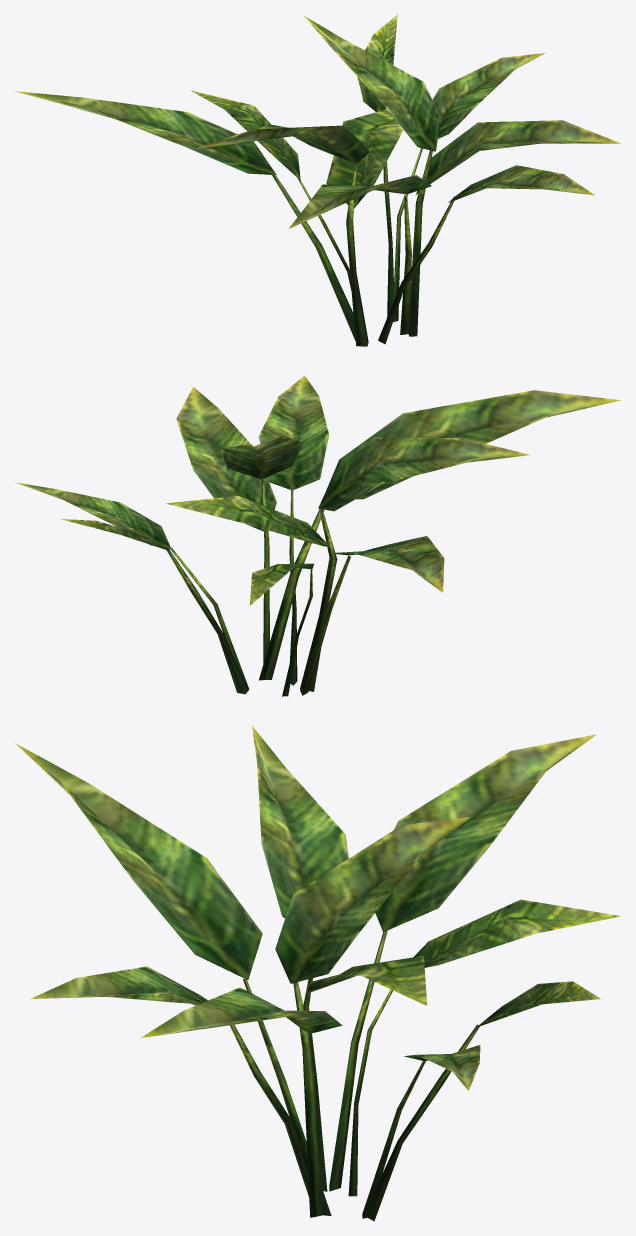
Rendered from f_grass_01.glb.
3 renders of one model, top to bottom at view 1: azimuth 30°, elevation 25°; view 2: azimuth 150°, elevation 25°; view 3: azimuth 270°, elevation 25°, orthographic. The views are drawn at different scales.
Visible parts, largest first — view 1: F_Grass_01; view 2: F_Grass_01; view 3: F_Grass_01.
Boxes of the visible parts, box(x1,y1,x2,y2) form: F_Grass_01: box(15, 14, 620, 346); F_Grass_01: box(15, 375, 620, 696); F_Grass_01: box(14, 726, 621, 1221).
Bounding box in the file's own units: 3.47 × 1.98 × 2.95.
1 material, 1 textured.
